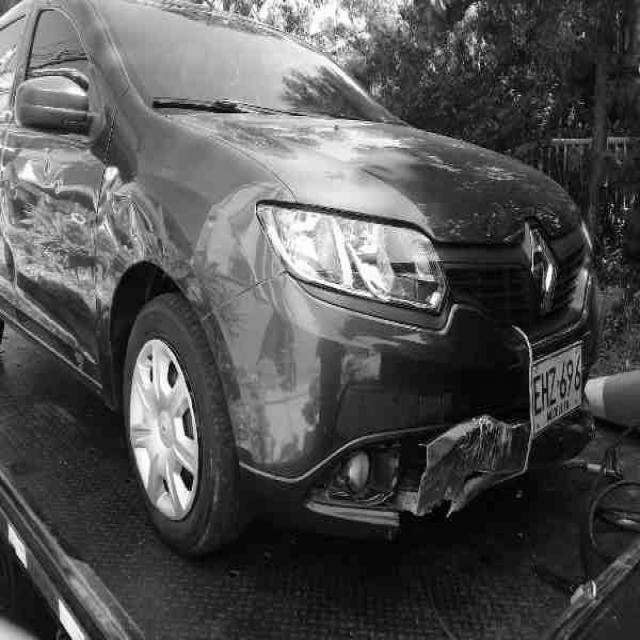plate: (528, 336, 587, 441)
